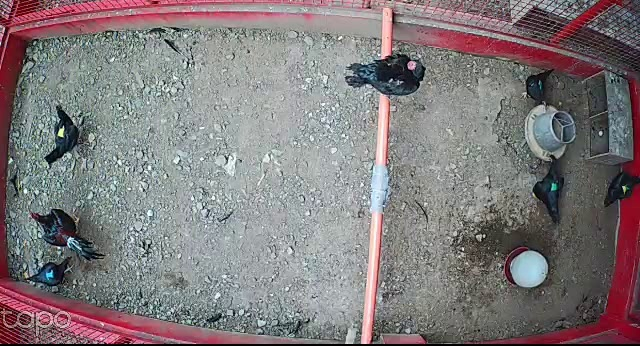Chicken: (341, 52, 426, 101), (40, 100, 85, 169), (530, 149, 566, 225), (601, 161, 640, 211), (23, 254, 75, 288), (521, 69, 557, 111)
Drinker: (503, 246, 549, 290)
Feeder: (525, 102, 574, 164)
Rooster: (25, 203, 105, 265)
Saddle_Color_Blue: (45, 270, 55, 280)
Saddle_Color_Yellow: (57, 126, 68, 139)
Saddle_Color_YellowGreen: (620, 183, 629, 193)
